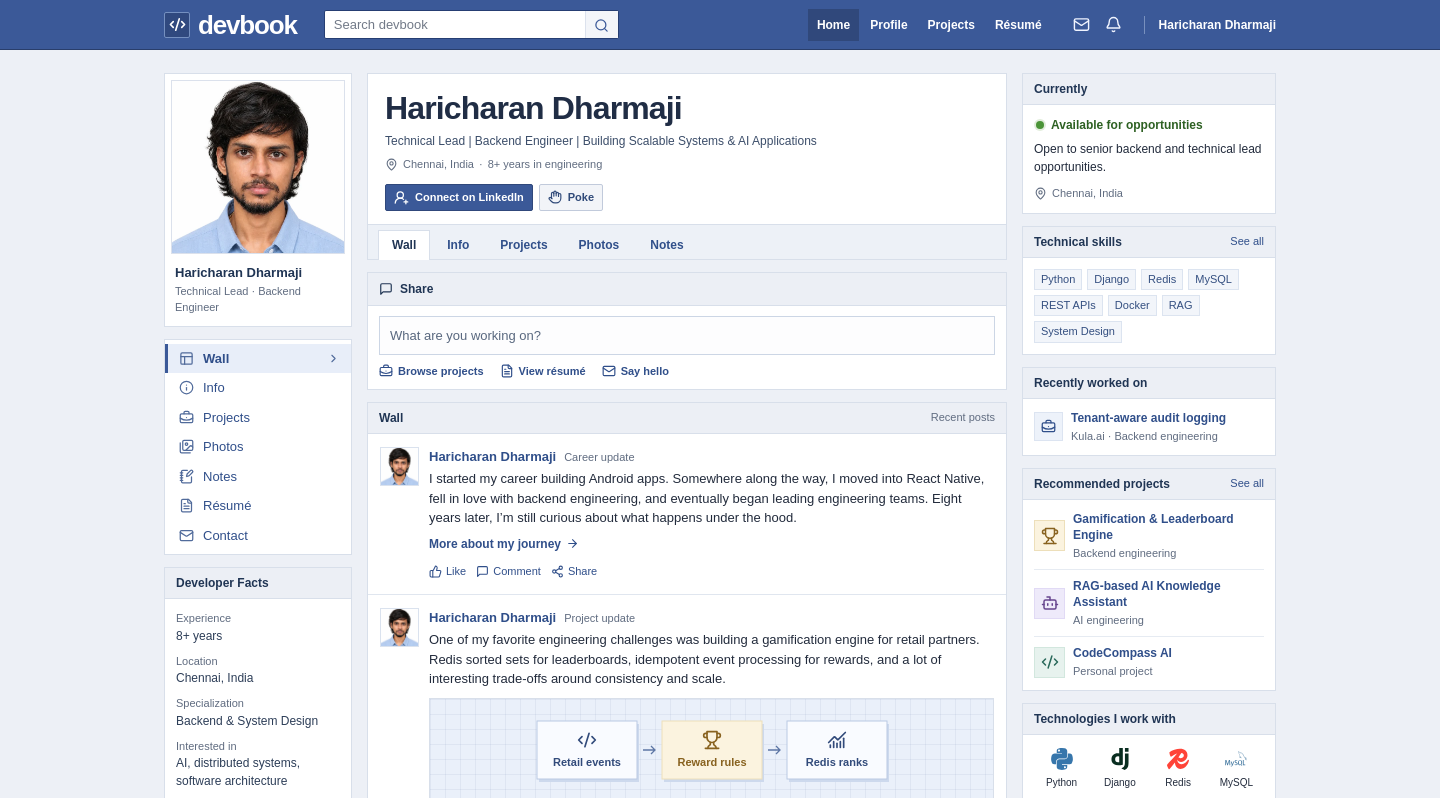
Test: devbook › opens a project from the profile tabs and explains the selected diagram stage
The width and height of the screenshot is (1440, 798).
Click the link "Projects" below "Connect on LinkedIn": (524, 245) x1=500 y1=238 x2=548 y2=252
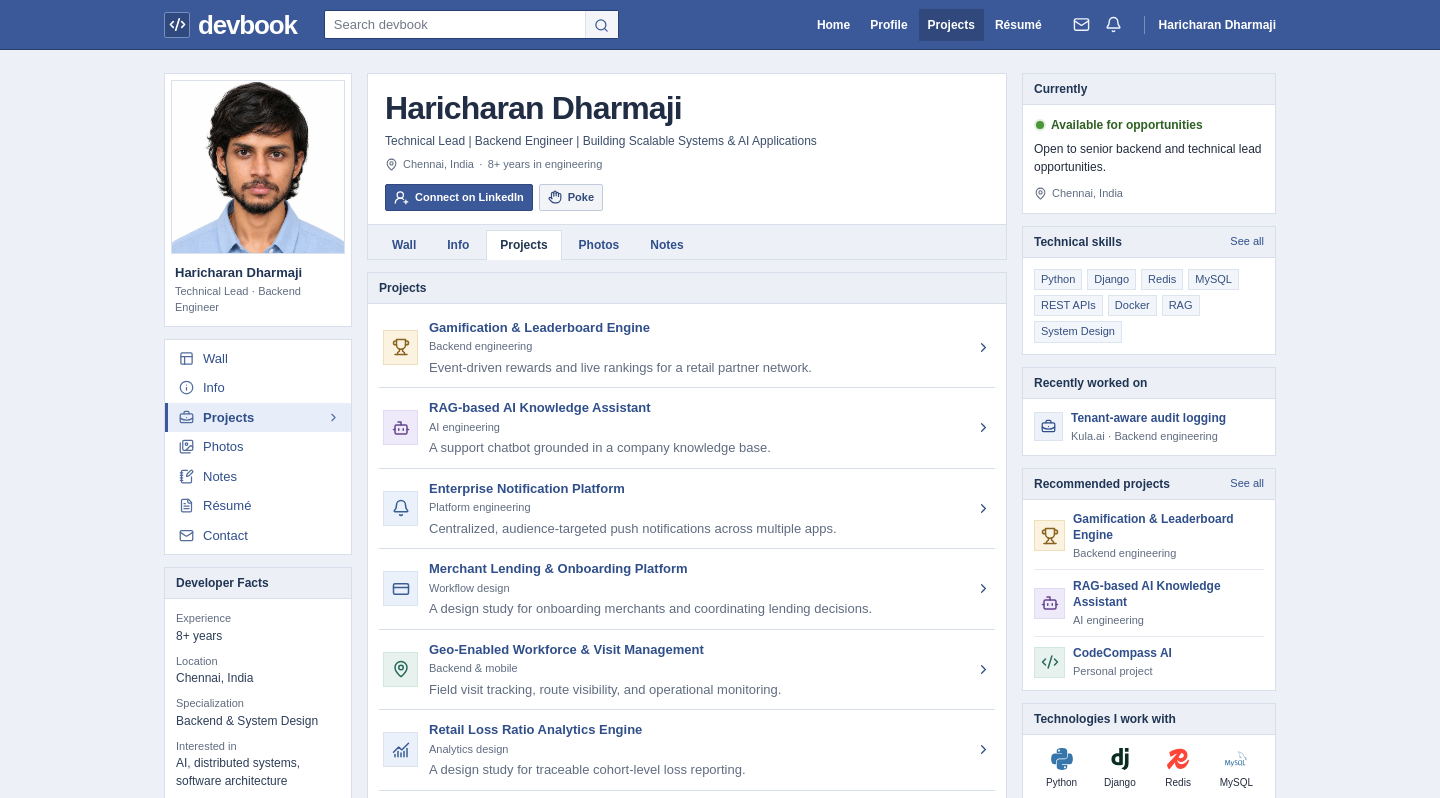
Click the link "Gamification & Leaderboard Engine": (400, 347) x1=379 y1=315 x2=995 y2=387
(page scrolled)
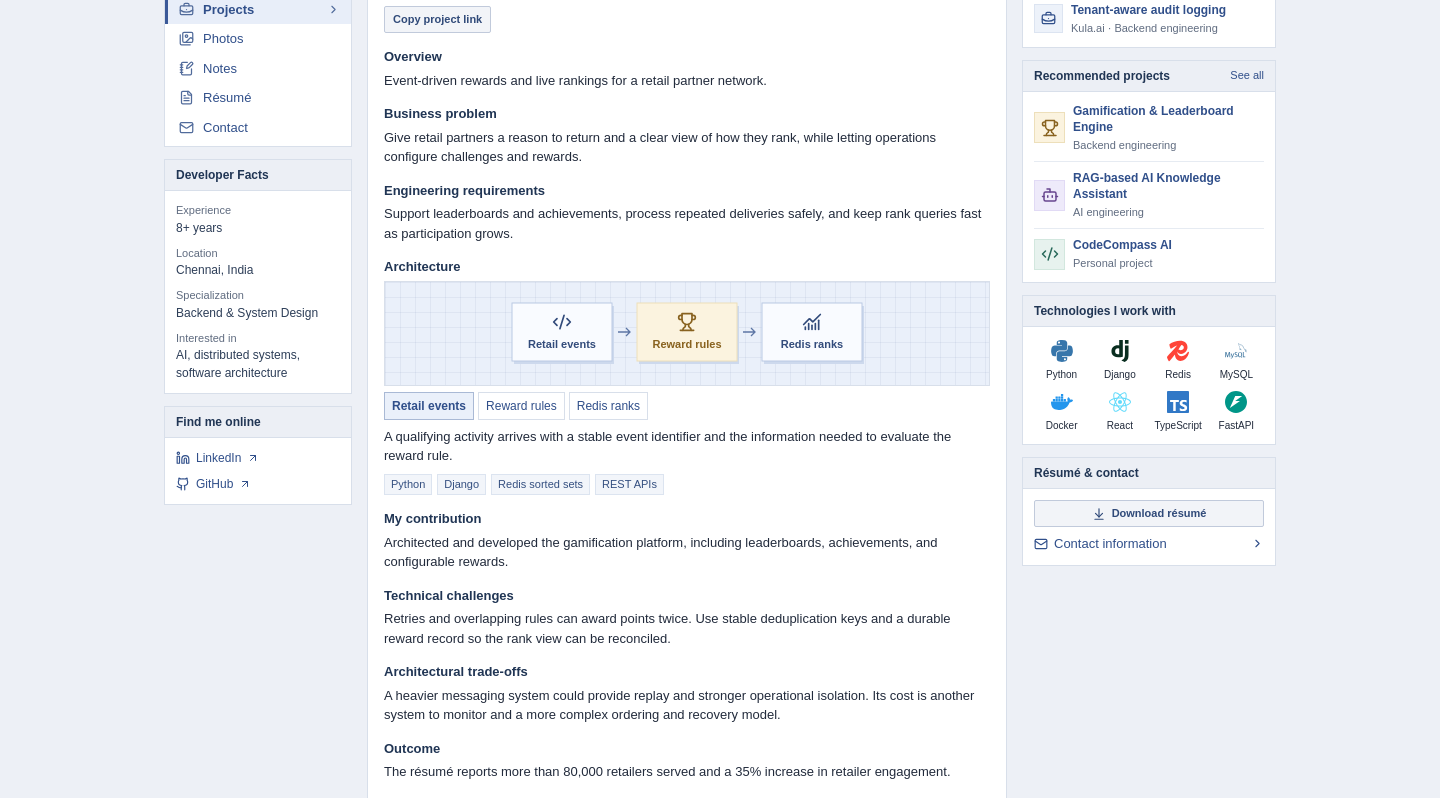
Click the button "Redis ranks": (608, 406) x1=569 y1=392 x2=648 y2=420
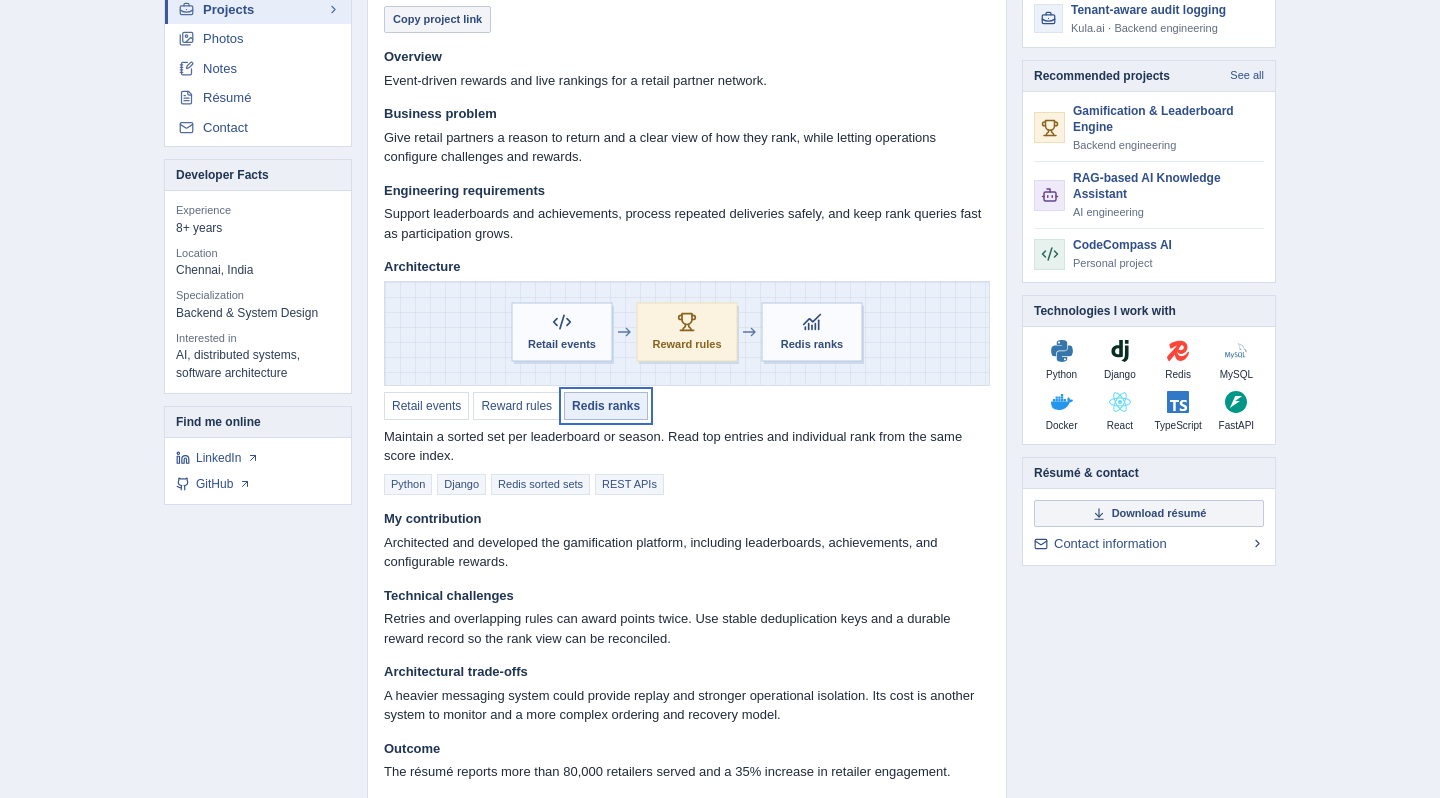
Expected: the text "sorted set per leaderboard or season" is shown, x1=384 y1=429 x2=962 y2=463
